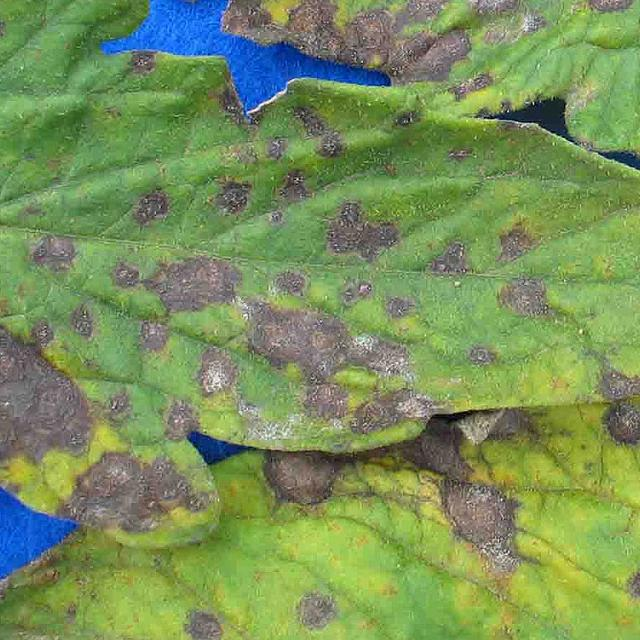Tomato Septoria leaf spot: (0, 0, 640, 550), (0, 227, 640, 640), (0, 0, 640, 265)
